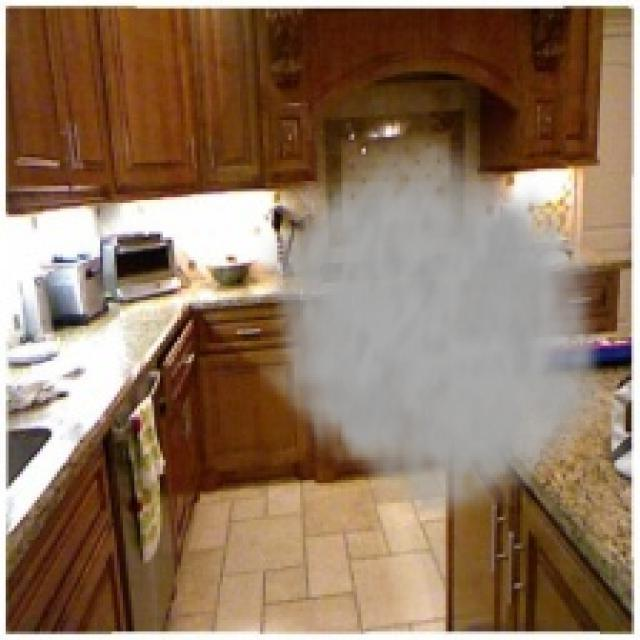Smoke: (260, 123, 623, 532)
